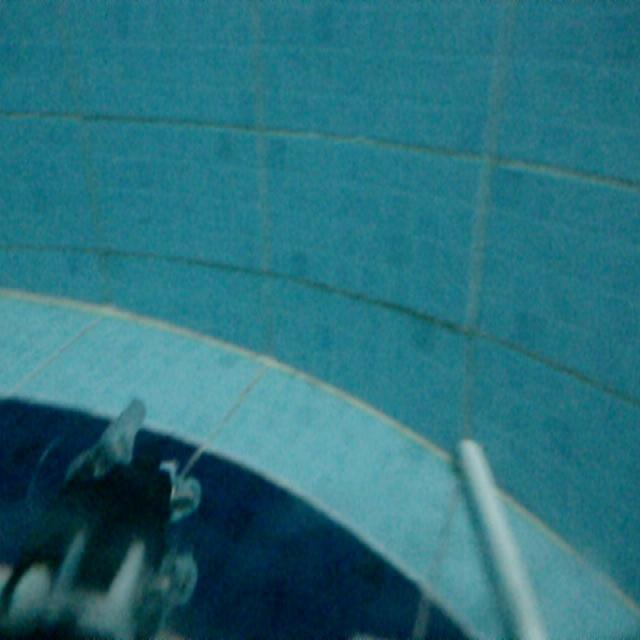Cube: (452, 434, 554, 640)
